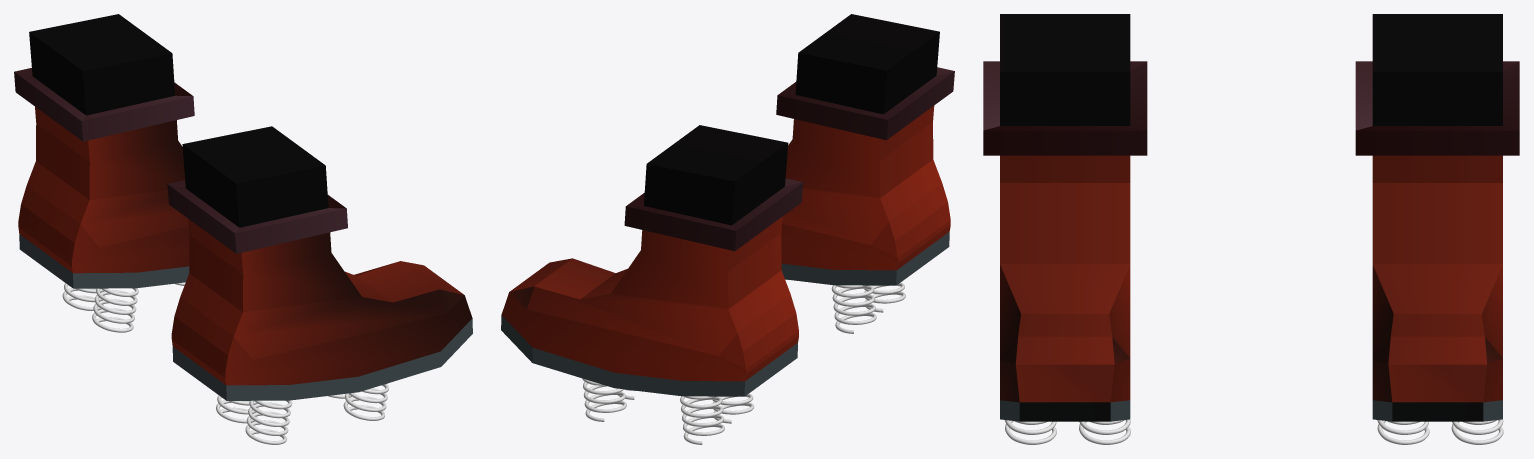
The model's file is Shoes.glb.
3 renders of one model, left to right at view 1: azimuth 30°, elevation 25°; view 2: azimuth 150°, elevation 25°; view 3: azimuth 270°, elevation 25°, orthographic. The views are drawn at different scales.
Parts seen in each view (by area): view 1: Shoe, Shoe.001, Spiral.002, Spiral.003; view 2: Shoe.001, Shoe, Spiral.003, Spiral.002; view 3: Shoe, Shoe.001, Spiral.002, Spiral.003.
Boxes of the visible parts, <box> form: Shoe: <box>167,126,472,400</box>; Shoe.001: <box>14,14,194,288</box>; Spiral.002: <box>216,383,388,444</box>; Spiral.003: <box>62,282,185,332</box>; Shoe.001: <box>501,125,803,396</box>; Shoe: <box>776,14,954,285</box>; Spiral.003: <box>582,378,754,444</box>; Spiral.002: <box>785,279,905,333</box>; Shoe: <box>983,14,1147,421</box>; Shoe.001: <box>1355,14,1519,421</box>; Spiral.002: <box>1004,419,1130,444</box>; Spiral.003: <box>1377,419,1503,444</box>.
Bounding box in the file's own units: 1.93 × 2 × 2.88.
Materials: 1 (1 with a texture image).
